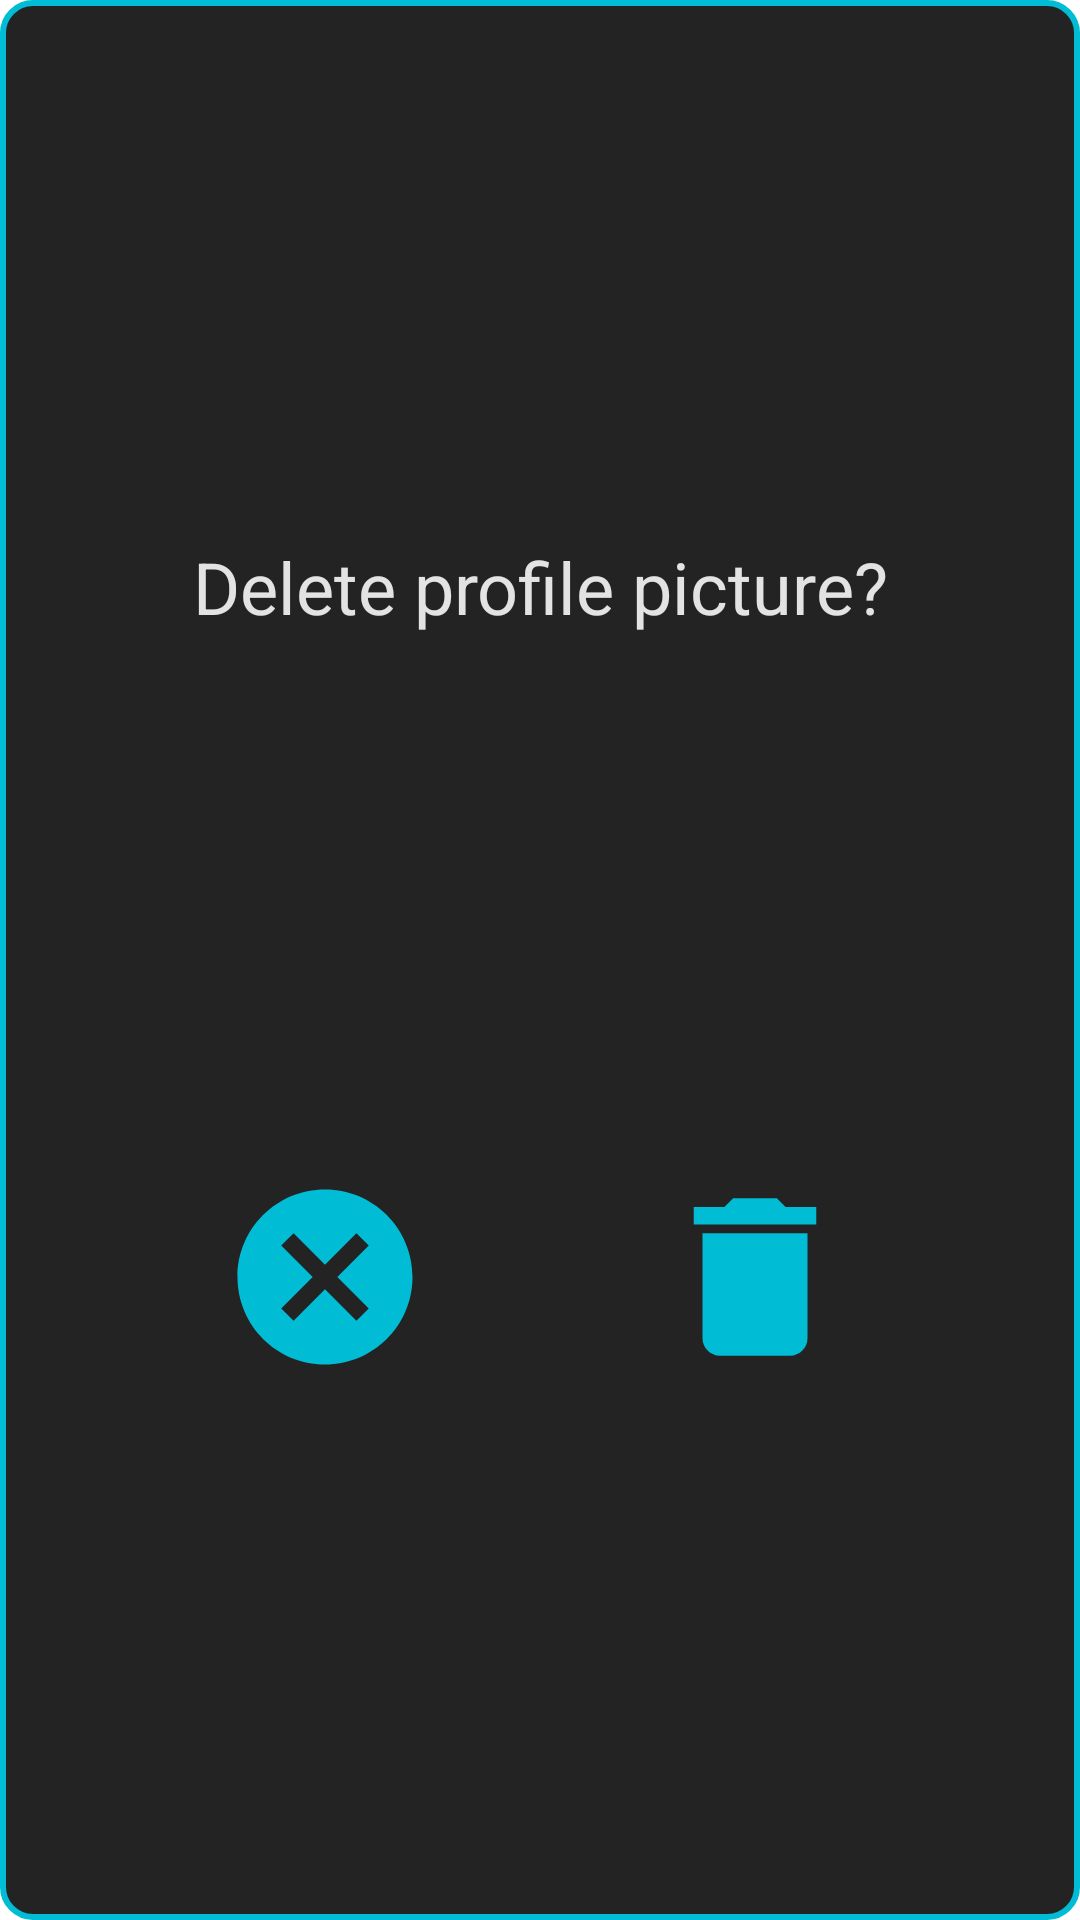

Screen size 1080w x 1920h. Icon name, then its box in pixels as (x1, y1, x2, y2):
delete measurement: (693, 1198, 817, 1356)
delete measurement cancel: (237, 1189, 413, 1365)
